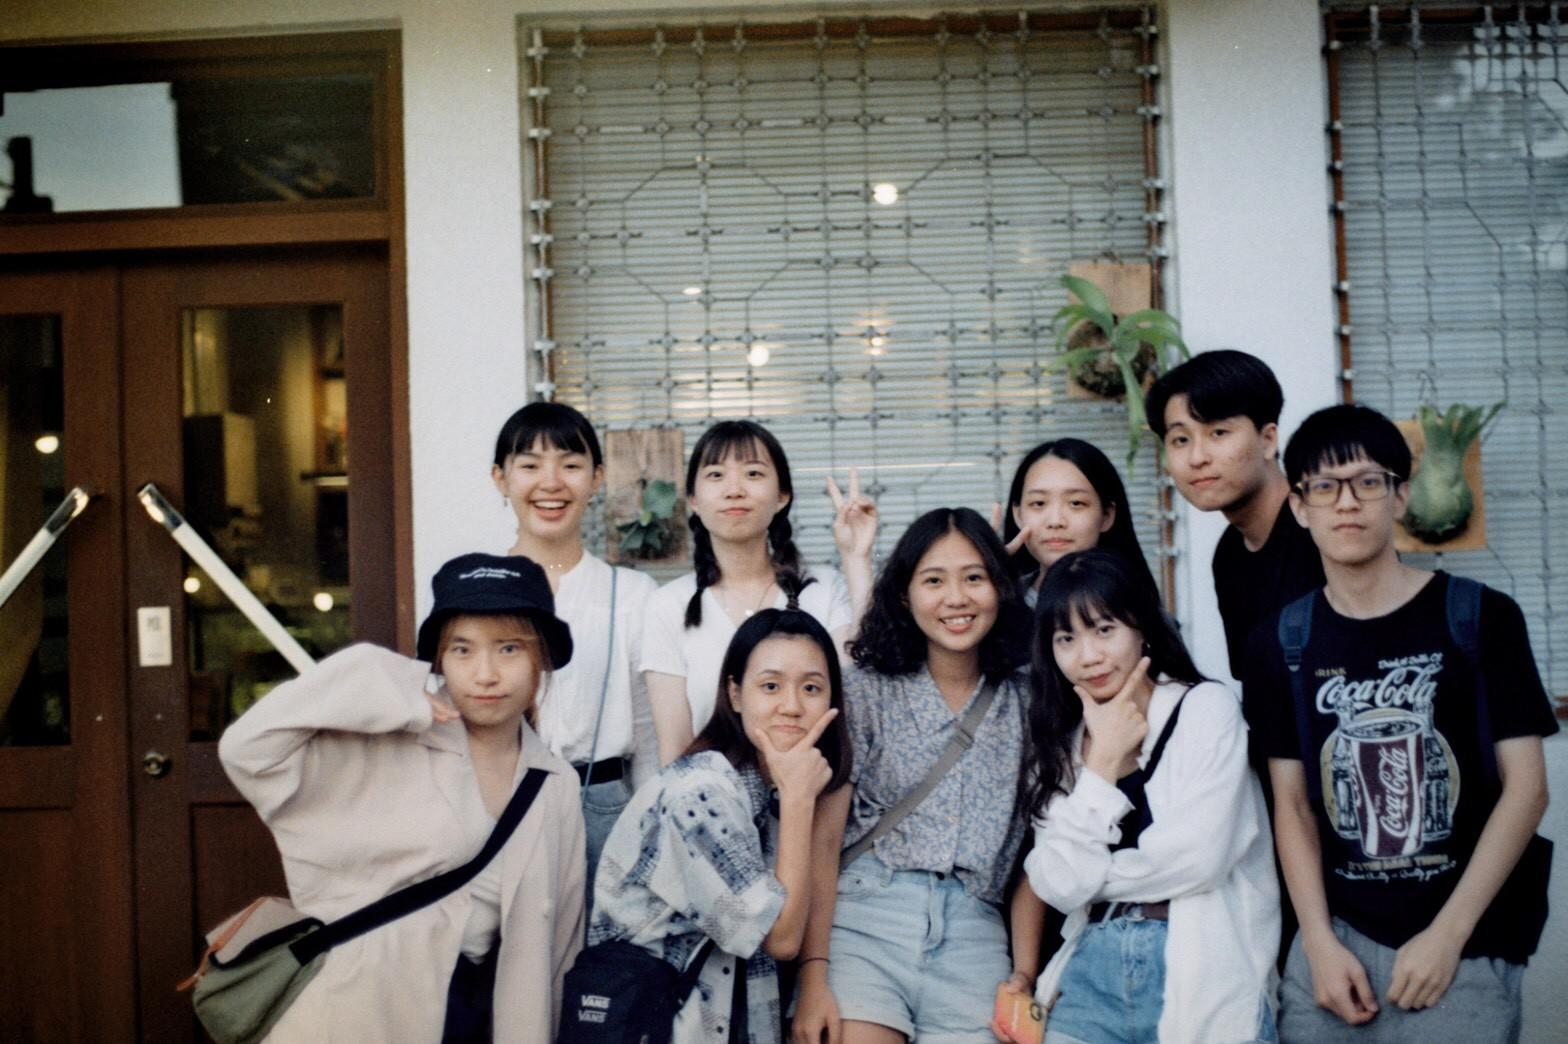people: (1278, 418, 1554, 1044), (1159, 361, 1405, 923), (1030, 565, 1254, 1044), (332, 576, 552, 1044), (845, 525, 1016, 1044), (474, 405, 638, 905), (1005, 443, 1174, 923), (661, 425, 854, 840), (636, 632, 821, 1044)
